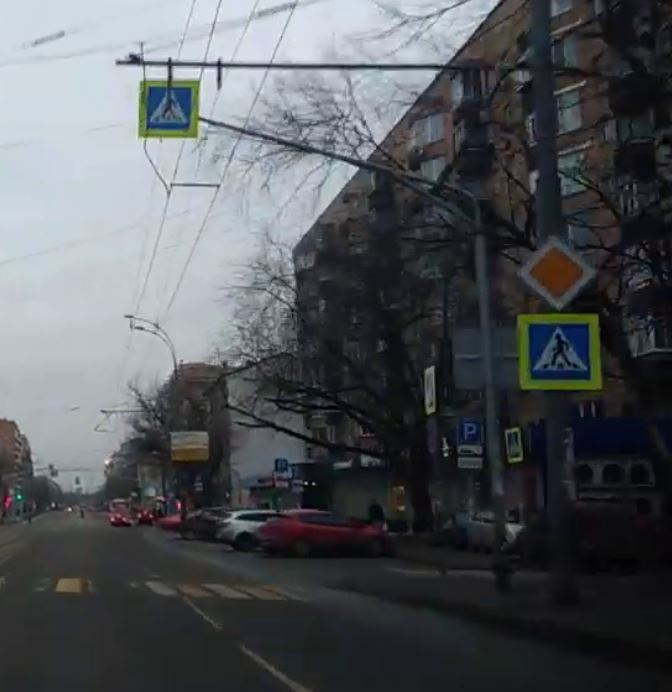Yaya Gecidi: (530, 322, 592, 382)
